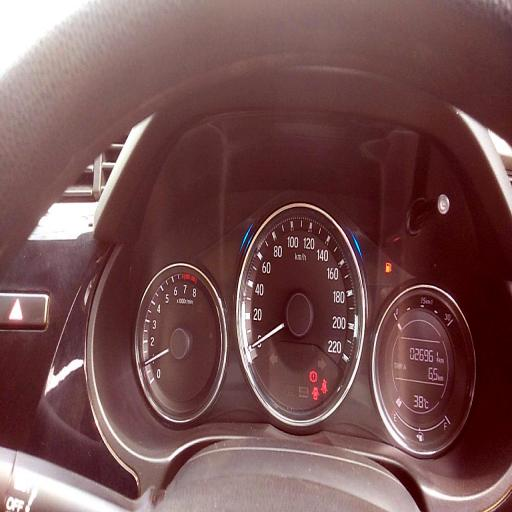belt: (321, 378, 328, 394)
brake_system_fault: (310, 370, 318, 382)
tachometer: (135, 262, 227, 424)
